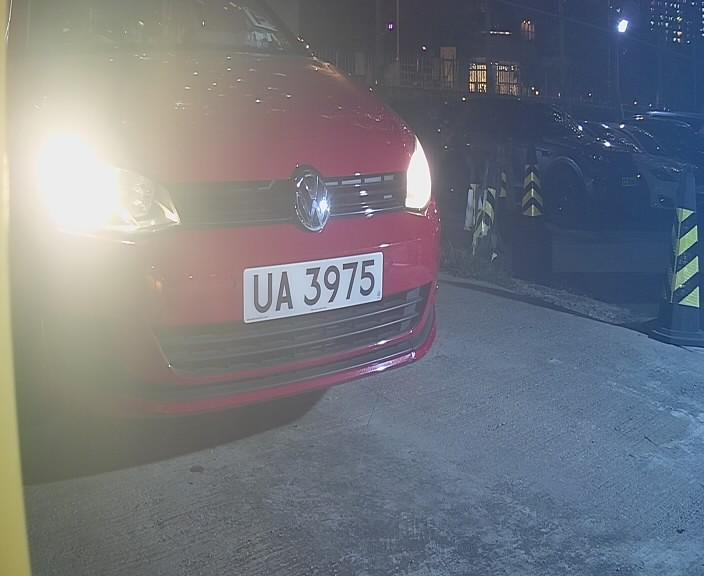Car: (19, 21, 547, 433)
License Plate: (228, 242, 390, 330)
